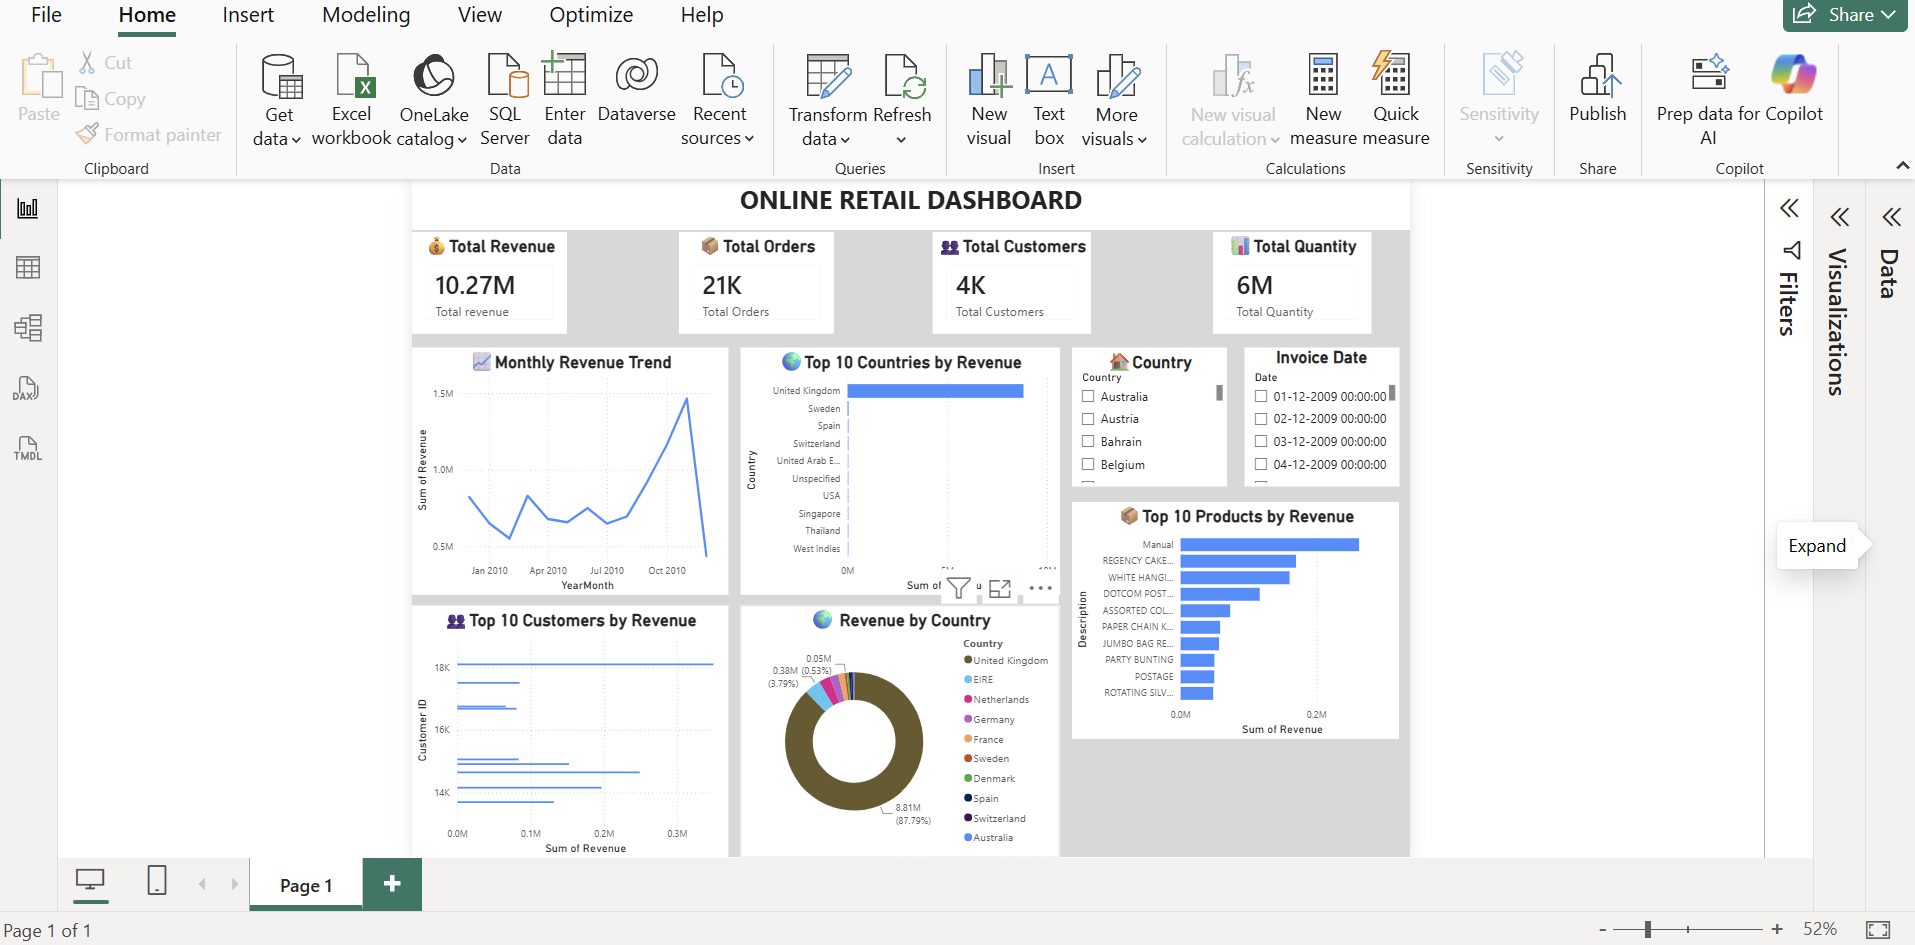

What the dashboard file says about the page in this screenshot:
{"tool":"powerbi","page":{"name":"Page 1","canvas":[1281,871],"ordinal":0},"visuals":[{"type":"cardVisual","title":"💰Total Revenue","fields":{"Data":["Online_Retail_Cleaned.Total revenue"]},"box":[0,70,198.8,130.4],"z":0},{"type":"cardVisual","title":"📦Total Orders","fields":{"Data":["Online_Retail_Cleaned.Total Orders"]},"box":[342,70,198.8,130.4],"z":1},{"type":"cardVisual","title":"👥Total Customers","fields":{"Data":["Online_Retail_Cleaned.Total Customers"]},"box":[668.1,70,203.6,130.4],"z":2},{"type":"cardVisual","title":"📊Total Quantity","fields":{"Data":["Online_Retail_Cleaned.Total Quantity"]},"box":[1027.5,70,203.6,130.4],"z":3},{"type":"textbox","box":[0,0,1280.4,66.8],"z":4},{"type":"lineChart","title":"📈Monthly Revenue Trend","fields":{"Y":["Sum(Online_Retail_Cleaned.Revenue)"],"Category":["Online_Retail_Cleaned.YearMonth"]},"box":[0,217.3,406.3,317.5],"z":5},{"type":"clusteredBarChart","title":"🌍Top 10 Countries by Revenue","fields":{"Category":["Online_Retail_Cleaned.Country"],"Y":["Sum(Online_Retail_Cleaned.Revenue)"]},"box":[421.4,217.3,410.1,317.5],"z":6},{"type":"slicer","title":"🏠Country","fields":{"Values":["Online_Retail_Cleaned.Country"]},"box":[846.6,217.3,198.4,177.6],"z":7},{"type":"slicer","title":"Invoice Date","fields":{"Values":["Online_Retail_Cleaned.InvoiceDate"]},"box":[1067.7,217.3,198.4,177.6],"z":8},{"type":"clusteredBarChart","title":"📦Top 10 Products by Revenue","fields":{"Category":["Online_Retail_Cleaned.Description"],"Y":["Sum(Online_Retail_Cleaned.Revenue)"]},"box":[846.6,415.8,419.5,304.3],"z":9},{"type":"clusteredBarChart","title":"👥Top 10 Customers by Revenue","fields":{"Category":["Online_Retail_Cleaned.Customer ID"],"Y":["Sum(Online_Retail_Cleaned.Revenue)"]},"box":[0,548.4,406,323.3],"z":10},{"type":"donutChart","title":"🌍  Revenue by Country","fields":{"Category":["Online_Retail_Cleaned.Country"],"Y":["Sum(Online_Retail_Cleaned.Revenue)"]},"box":[421.4,548.4,409.9,323.3],"z":11}]}

Visuals, with their boxes on the page's 1281x871 design canvas (x1, y1, x2, y2). These are canvas units, not pixel positions in the 1915x945 screenshot, which may show the page scaled, cropped or inside an application window:
"💰Total Revenue" cardVisual: detection(0, 70, 199, 200)
"📦Total Orders" cardVisual: detection(342, 70, 541, 200)
"👥Total Customers" cardVisual: detection(668, 70, 872, 200)
"📊Total Quantity" cardVisual: detection(1028, 70, 1231, 200)
textbox: detection(0, 0, 1280, 67)
"📈Monthly Revenue Trend" lineChart: detection(0, 217, 406, 535)
"🌍Top 10 Countries by Revenue" clusteredBarChart: detection(421, 217, 832, 535)
"🏠Country" slicer: detection(847, 217, 1045, 395)
"Invoice Date" slicer: detection(1068, 217, 1266, 395)
"📦Top 10 Products by Revenue" clusteredBarChart: detection(847, 416, 1266, 720)
"👥Top 10 Customers by Revenue" clusteredBarChart: detection(0, 548, 406, 872)
"🌍  Revenue by Country" donutChart: detection(421, 548, 831, 872)
